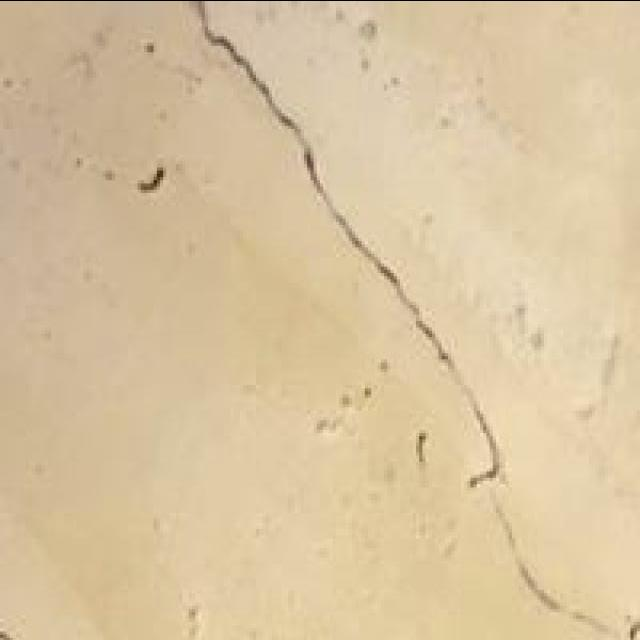SurfaceCrack: (176, 0, 552, 596)
